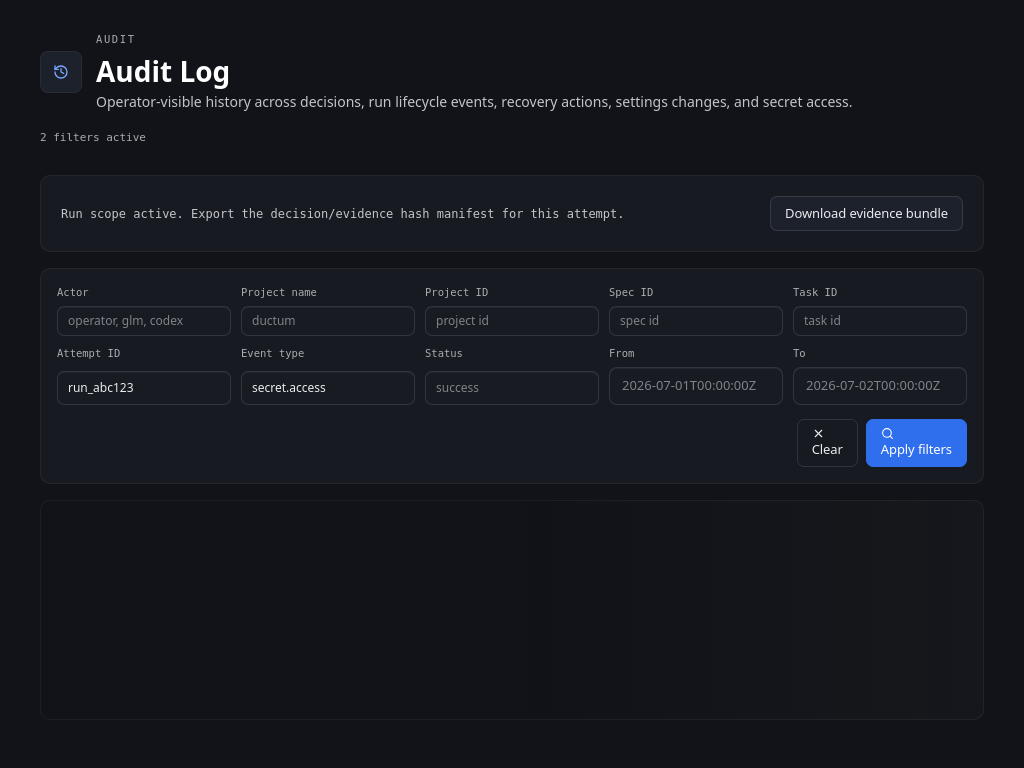
Test: Audit log dashboard › backs filters with URL query params and sends them to the API
This screenshot has width=1024, height=768.
Type "operator" into the field labelled "Actor" at (144, 321), box [57,306,231,336]
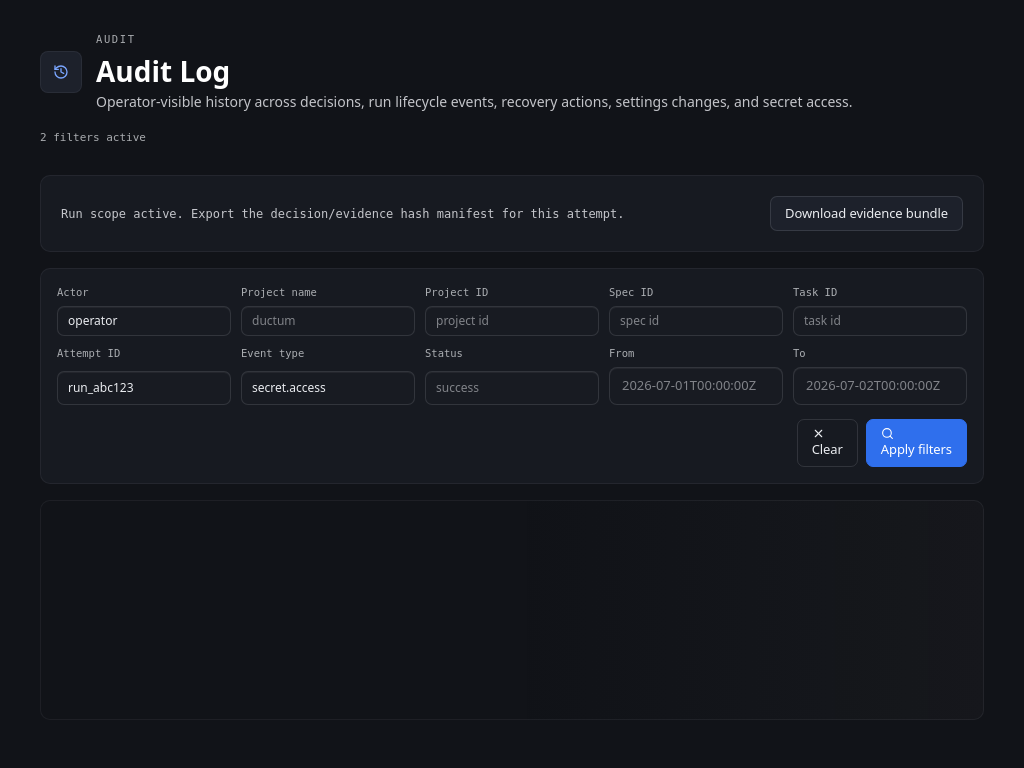
Click the button "Apply filters" at (916, 443), box [866,419,967,467]
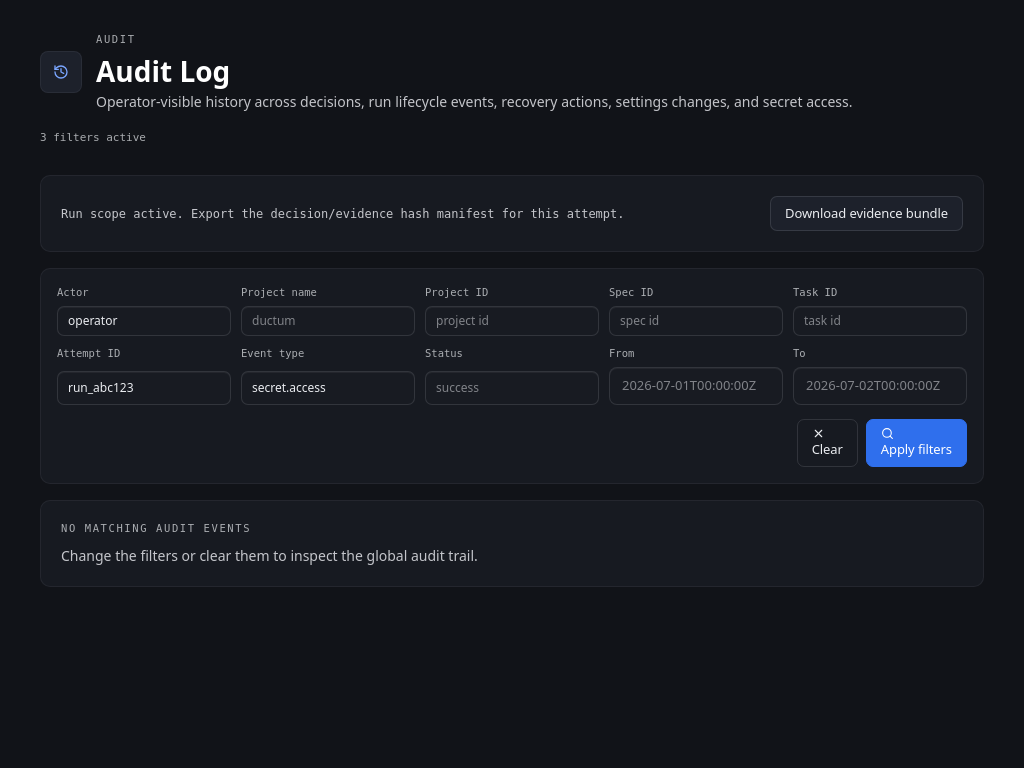
Click the button "Clear" at (827, 443), box [797,419,858,467]
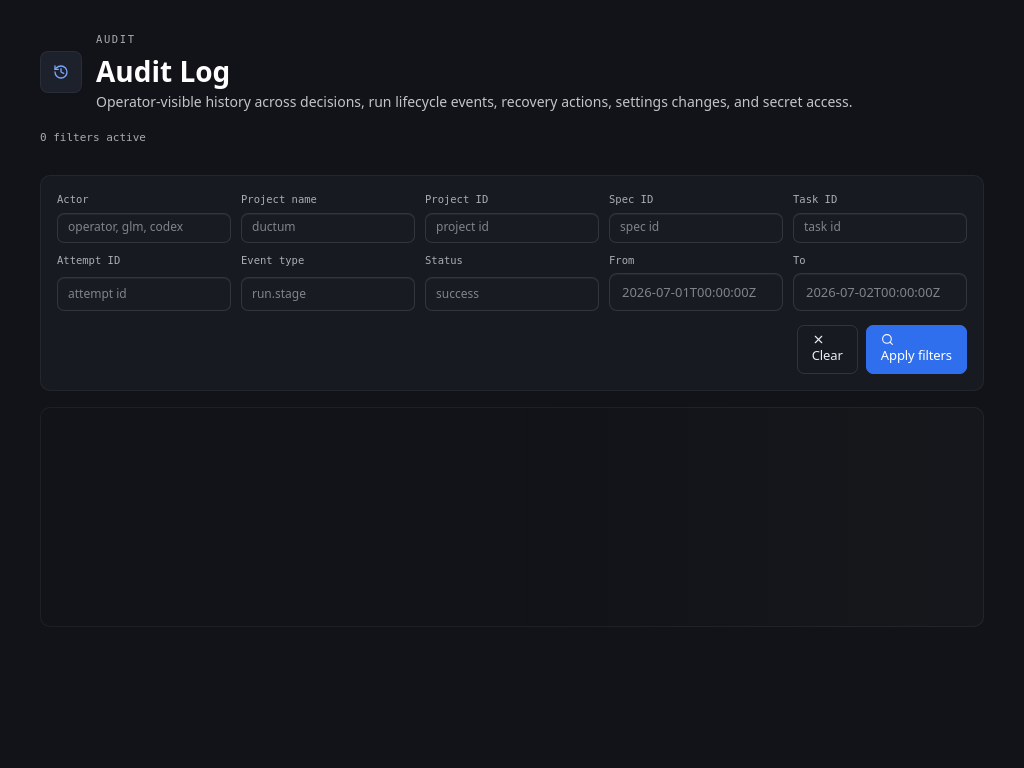
Check: the field labelled "Actor" is empty, box [57,212,231,242]
Click the button "Apply filters" at (916, 350), box [866,325,967,374]
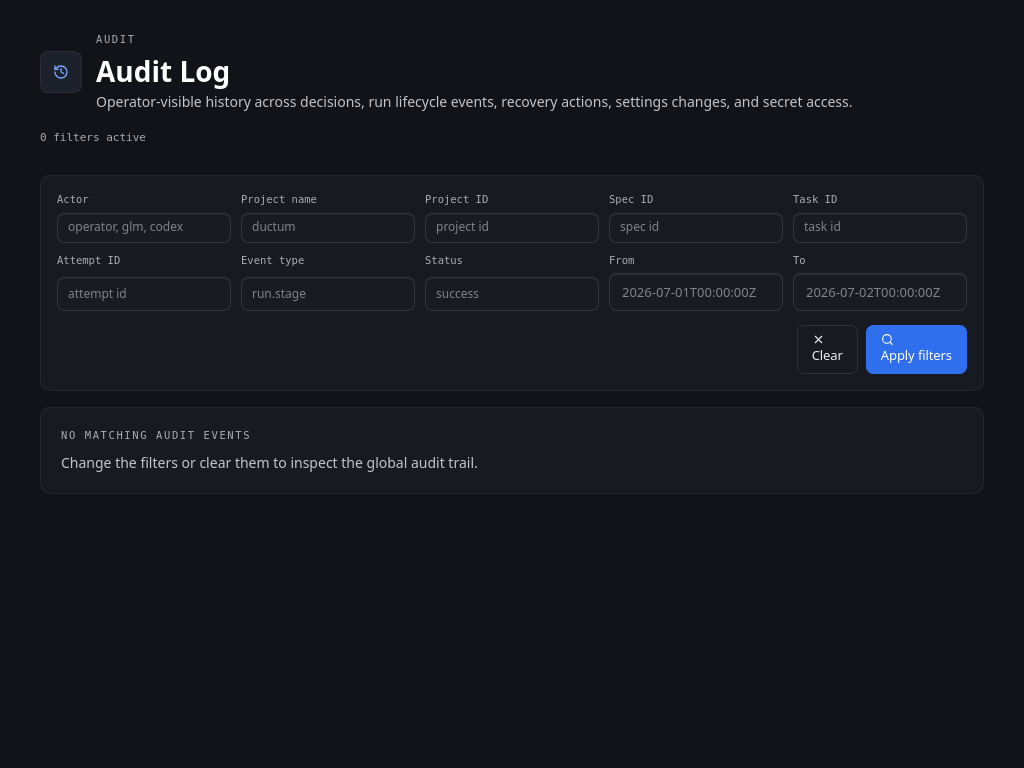
Check: the text "No matching audit events" is shown, box [61,429,251,441]
